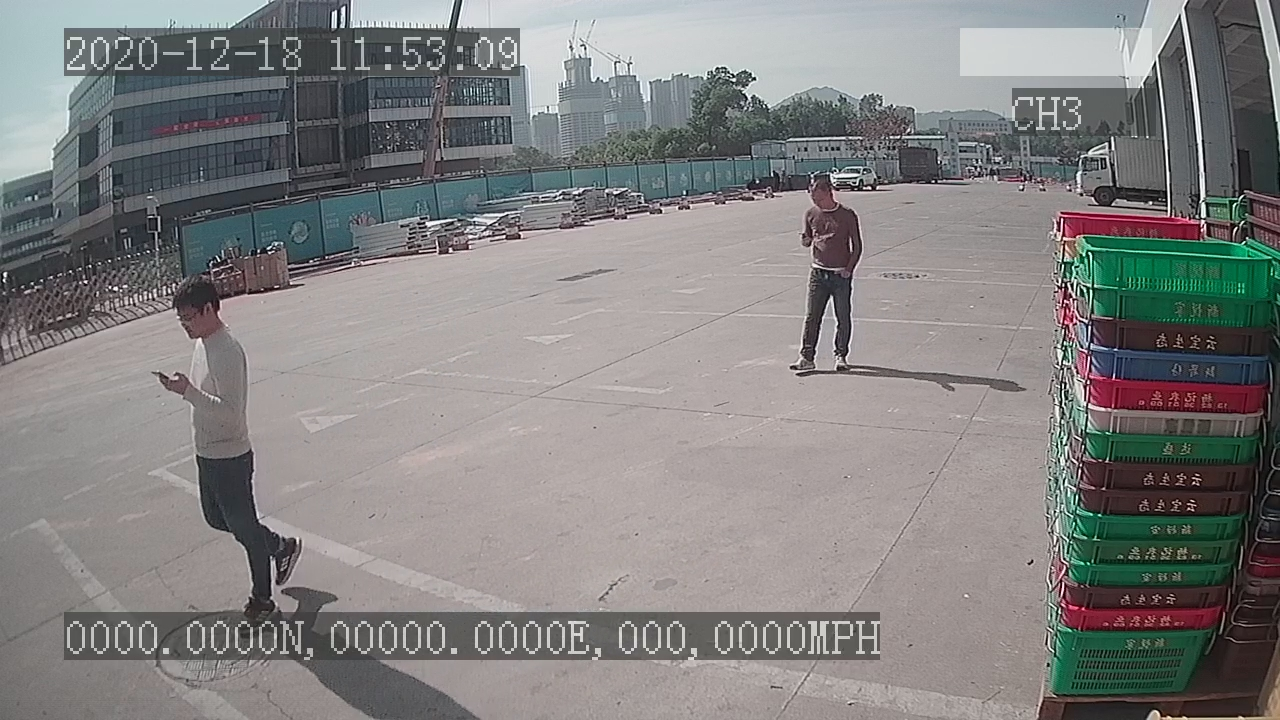person: (779, 172, 868, 381)
